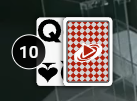q: (35, 16, 64, 46)
